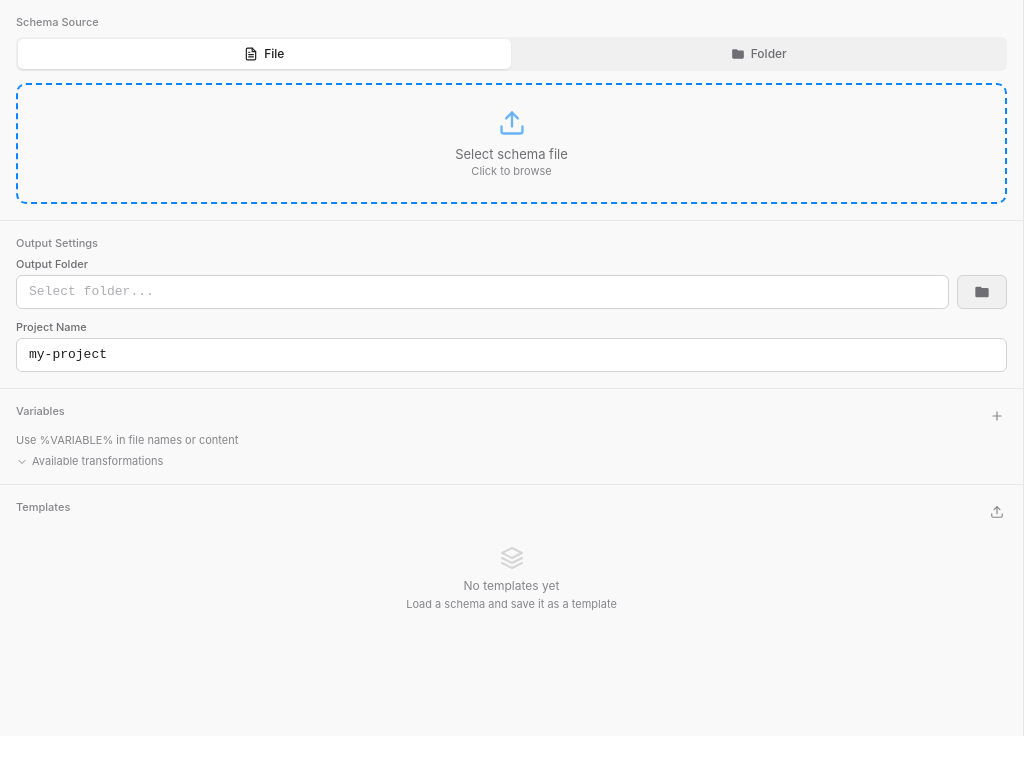
Test: LeftPanel › Variables Section › adding variables › cancels adding variable
The width and height of the screenshot is (1024, 768).
Click the button titled "Add variable": (997, 416) [987,406,1007,426]
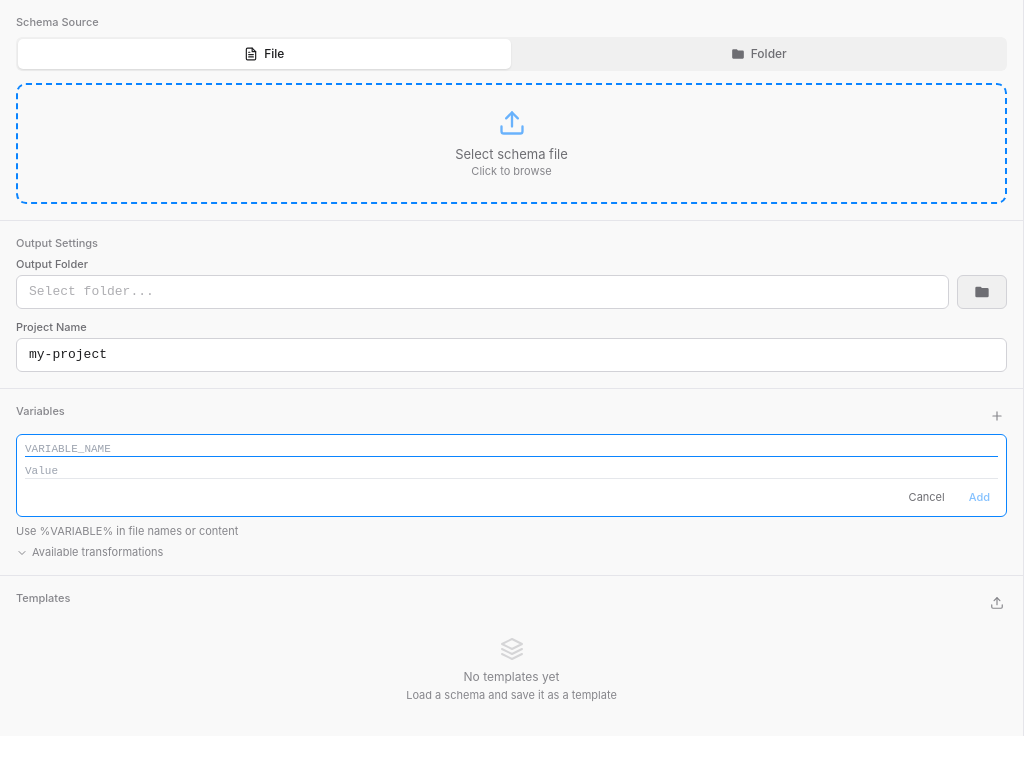
Expected: the field with placeholder "VARIABLE_NAME" is shown, [25,443,998,457]
Click the button "Cancel": (927, 498) [901,487,953,508]
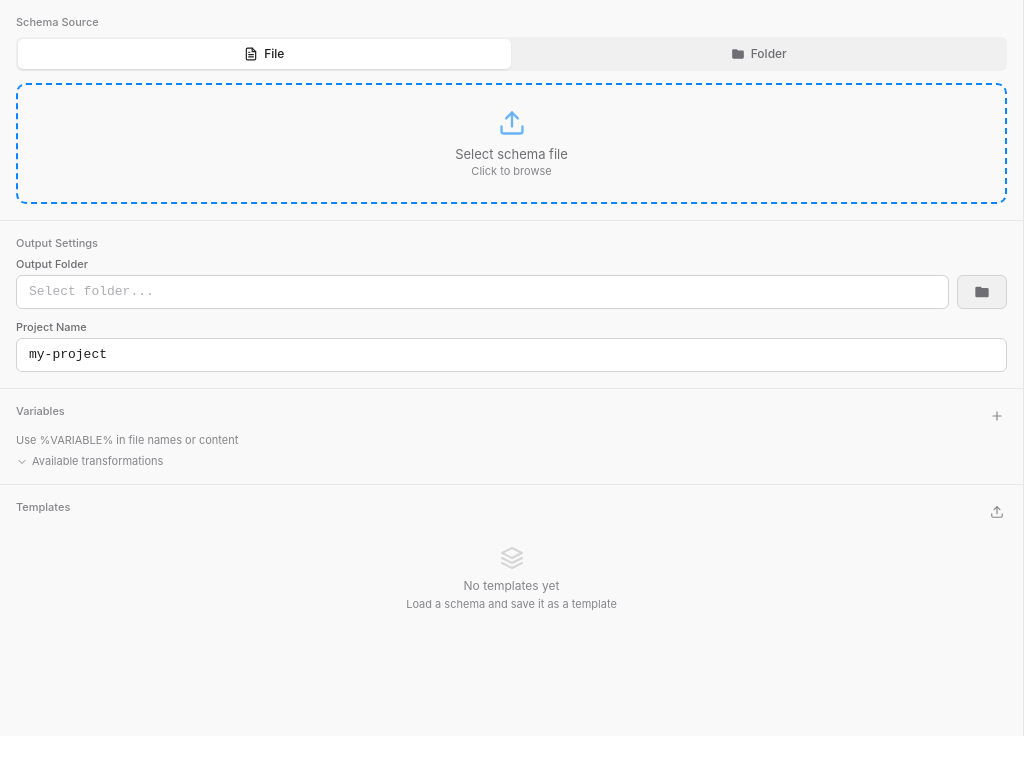
Expected: the field with placeholder "VARIABLE_NAME" is gone
